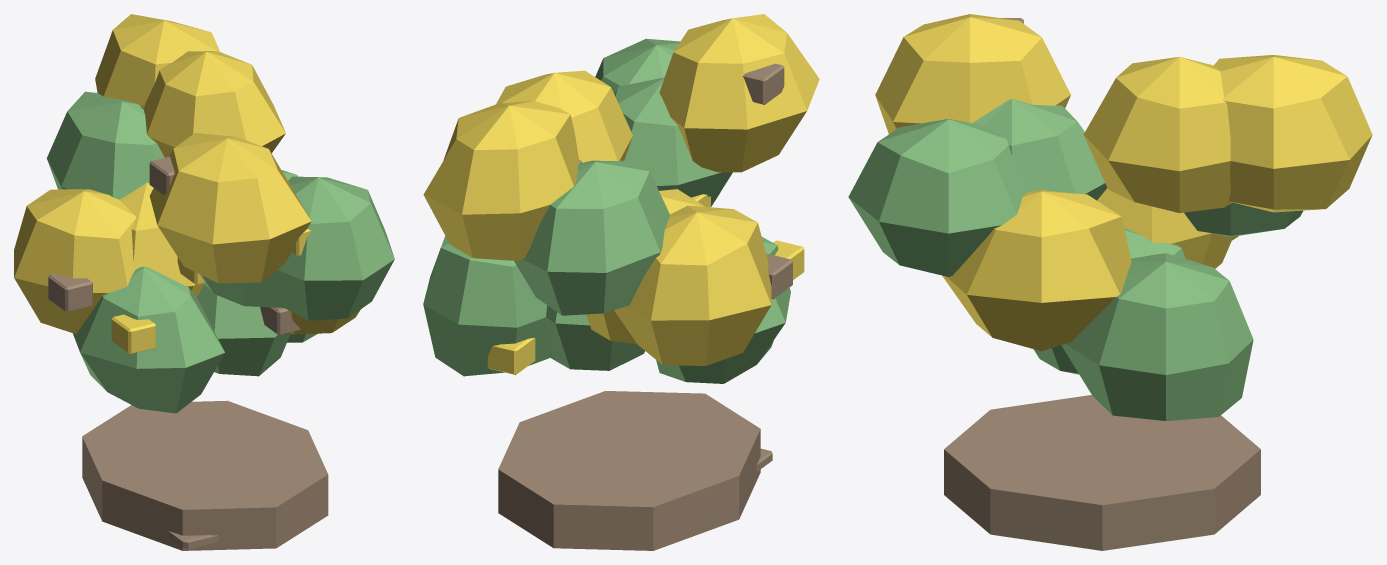
The model's file is b08_black_eyed_susans.glb.
3 renders of one model, left to right at view 1: azimuth 30°, elevation 25°; view 2: azimuth 150°, elevation 25°; view 3: azimuth 270°, elevation 25°, orthographic. The views are drawn at different scales.
Parts seen in each view (by area): view 1: b08_black_eyed_susans; view 2: b08_black_eyed_susans; view 3: b08_black_eyed_susans.
Part boxes in pixels (<box>): b08_black_eyed_susans: <box>14,14,394,550</box>; b08_black_eyed_susans: <box>423,14,819,550</box>; b08_black_eyed_susans: <box>848,14,1372,550</box>.
Size of the model in its own units: 0.531 by 0.65 by 0.675.
